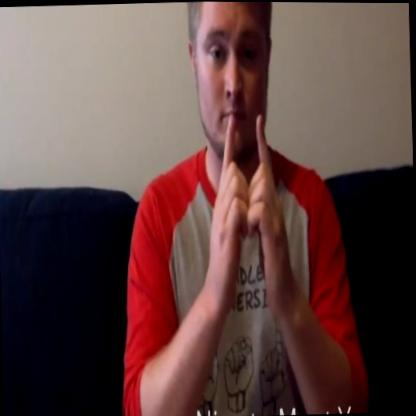NiceToMeetYou: (201, 97, 306, 320)
